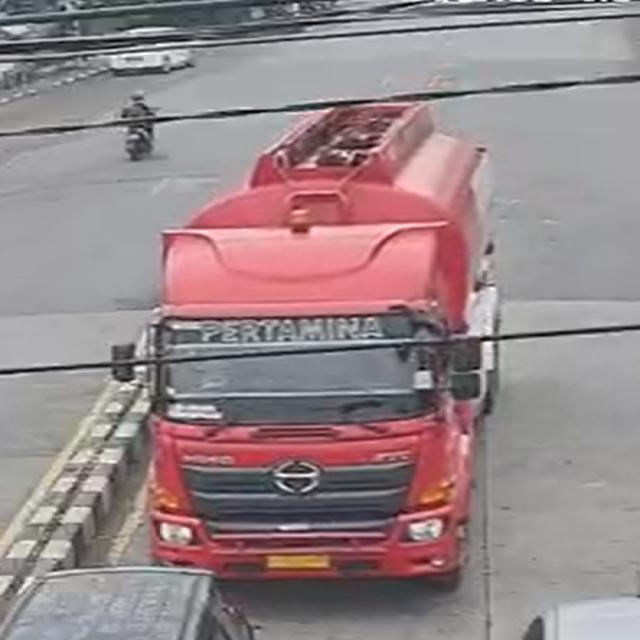truck: (137, 85, 512, 600)
